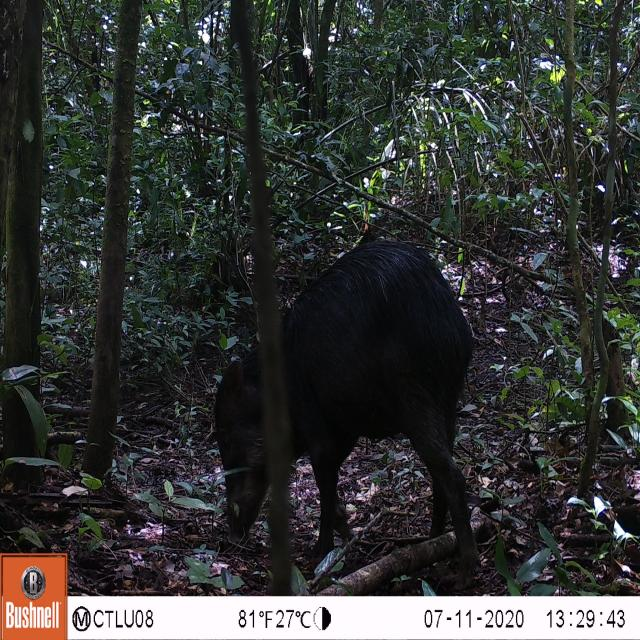Collared Peccary: (205, 229, 499, 588)
